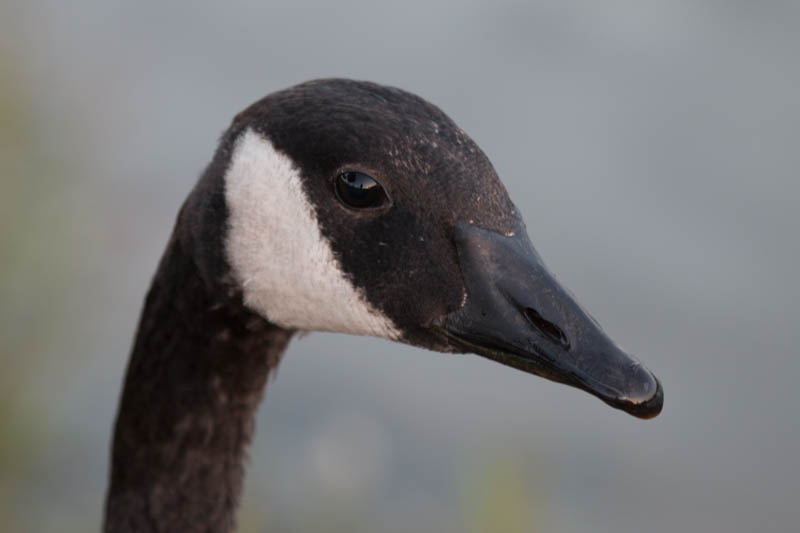goose-head: (190, 76, 664, 419)
